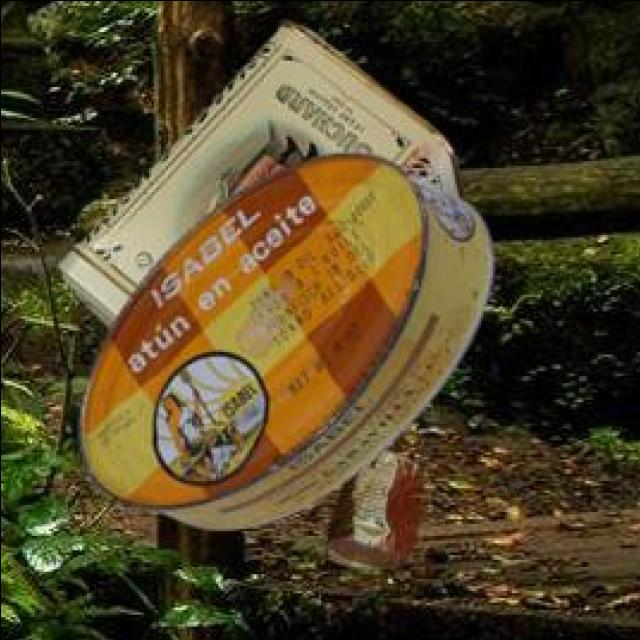logam: (75, 152, 488, 527), (54, 16, 459, 324), (324, 445, 414, 565)
